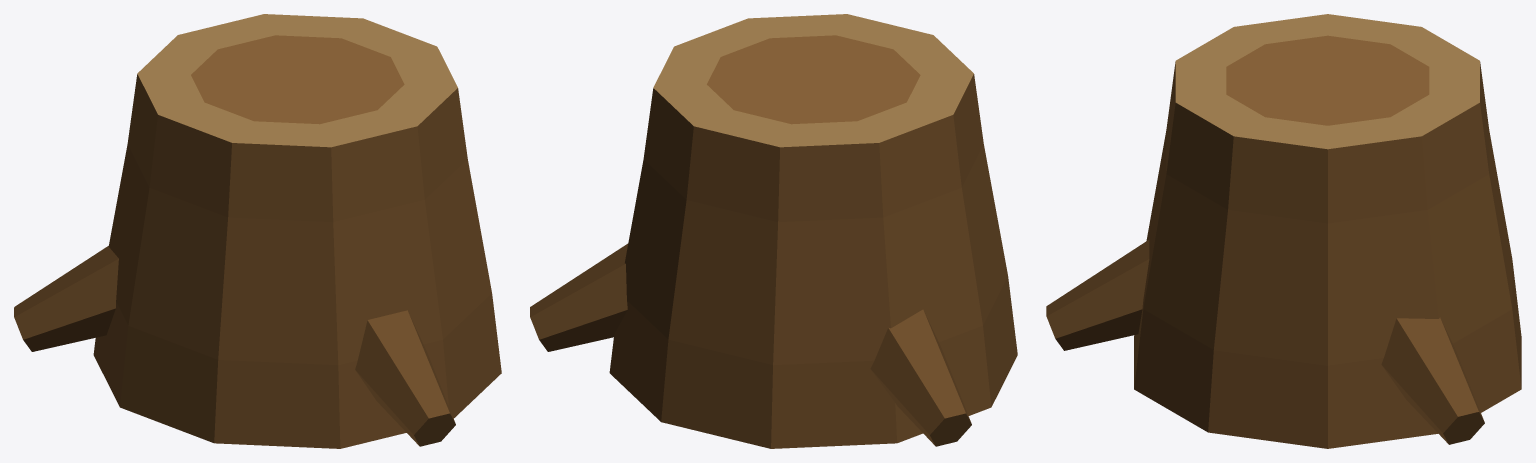
Rendered from tree_stump.glb.
The picture shows the model from 3 angles, left to right: view 1: azimuth 30°, elevation 25°; view 2: azimuth 150°, elevation 25°; view 3: azimuth 270°, elevation 25°; orthographic projection.
Parts seen in each view (by area): view 1: TreeStump; view 2: TreeStump; view 3: TreeStump.
Part boxes in pixels (x1,y1,x2,y2): TreeStump: (14,14,501,448); TreeStump: (530,14,1017,448); TreeStump: (1046,14,1521,448).
Bounding box in the file's own units: 1.03 × 0.642 × 0.9797.
